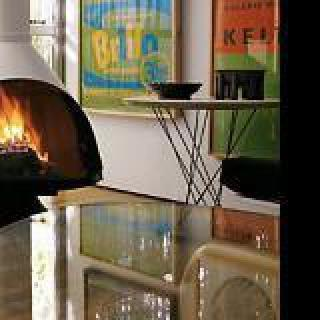fire: (0, 86, 48, 176)
